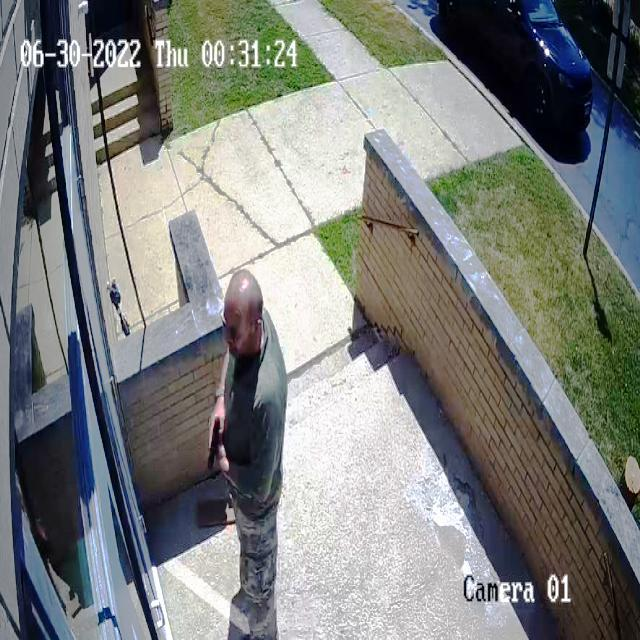Gun: (198, 416, 230, 467)
